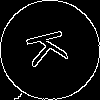K: (25, 25, 78, 69)
